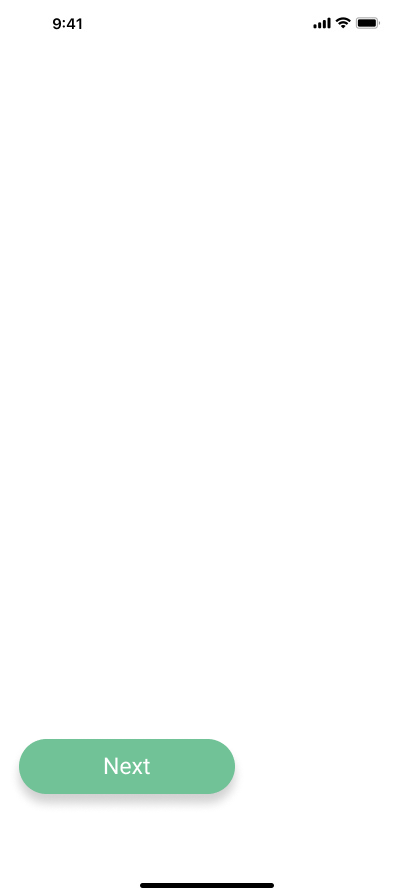Buttons: (8, 737, 246, 814)
Home Indicator: (0, 862, 414, 896)
Status Bar: (0, 0, 414, 44)
